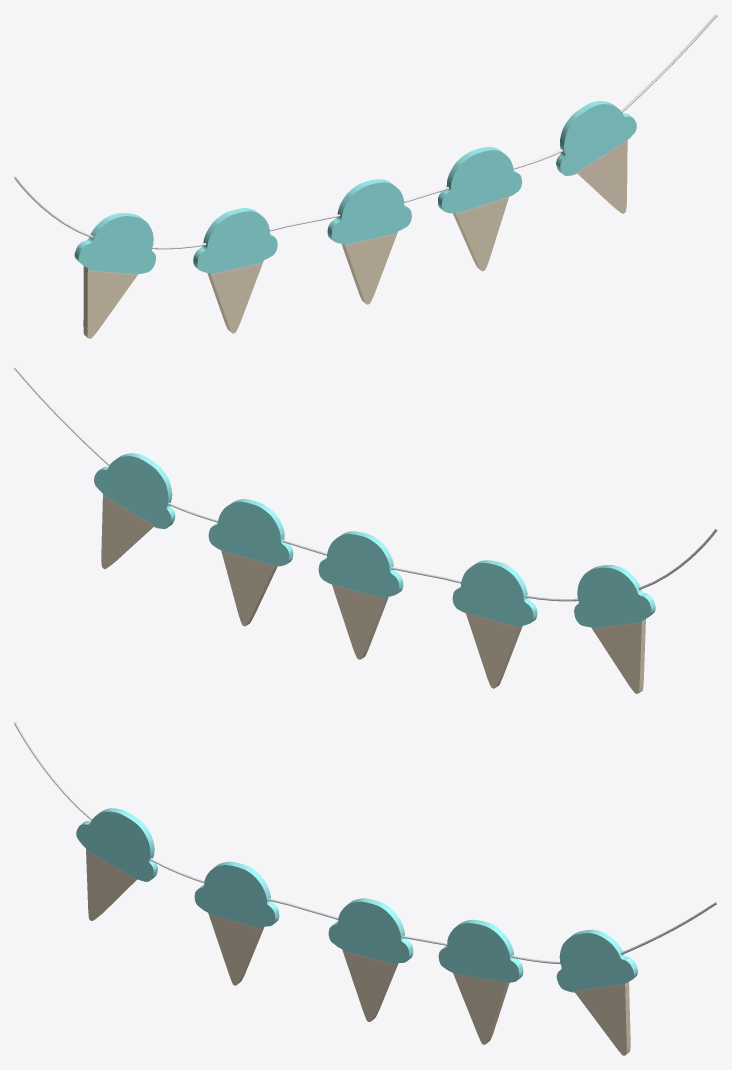
Rendered from Ice cream set.fbx.
The picture shows the model from 3 angles, top to bottom: view 1: azimuth 30°, elevation 25°; view 2: azimuth 150°, elevation 25°; view 3: azimuth 330°, elevation 25°; orthographic projection.
Visible parts, largest first — view 1: Ice cream set; view 2: Ice cream set; view 3: Ice cream set.
Part boxes in pixels (left/top/right/bottom): Ice cream set: left=14, top=14, right=717, bottom=338; Ice cream set: left=14, top=367, right=717, bottom=693; Ice cream set: left=14, top=722, right=717, bottom=1055.
Size of the model in its own units: 62.56 by 18.22 by 1.03.
1 material, 1 textured.
